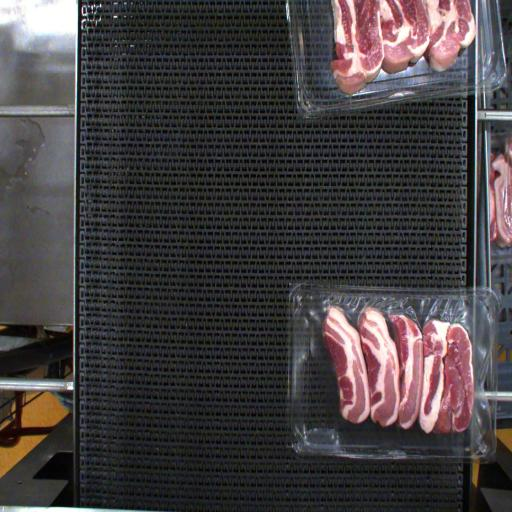unsealed: (296, 292, 490, 432)
